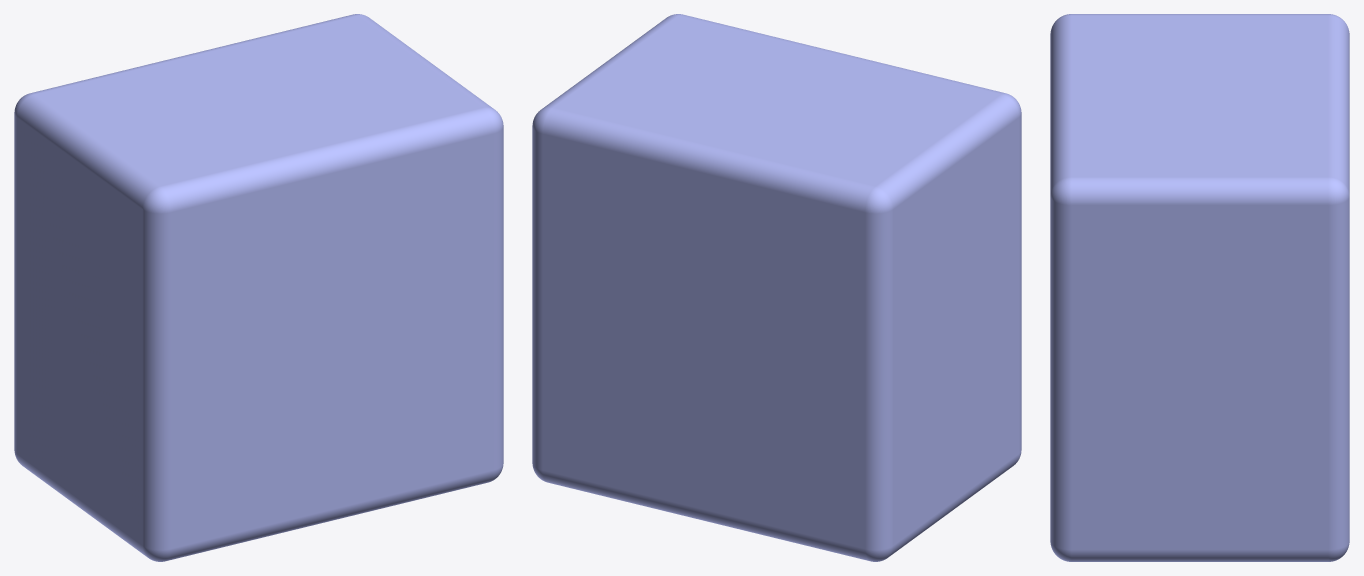
Rendered from only-keyboard-transformed.glb.
3 views of the same model, side by side, from view 1: azimuth 30°, elevation 25°; view 2: azimuth 150°, elevation 25°; view 3: azimuth 270°, elevation 25° (orthographic). The views are drawn at different scales.
Parts seen in each view (by area): view 1: Cube; view 2: Cube; view 3: Cube.
Boxes of the visible parts, bbox=[...] form: Cube: bbox=[14, 14, 503, 561]; Cube: bbox=[532, 14, 1021, 561]; Cube: bbox=[1050, 14, 1349, 561].
Size of the model in its own units: 10.08 by 10.05 by 7.12.
Materials: 6 (3 with a texture image).
